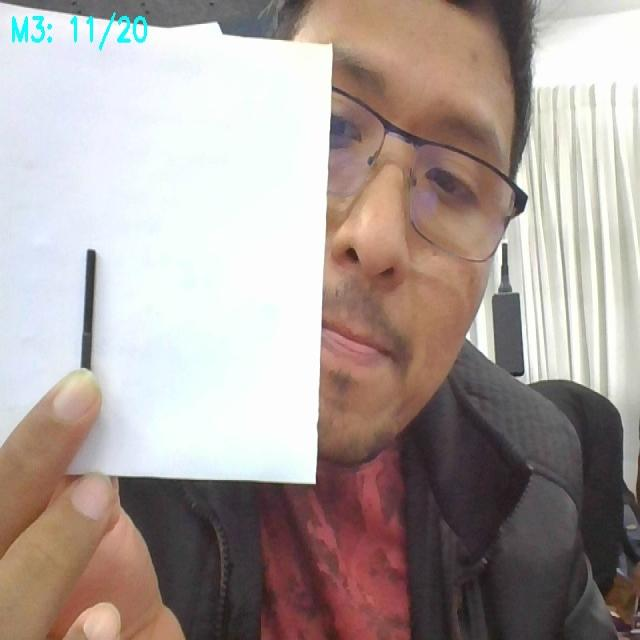vastago: (81, 249, 96, 367)
